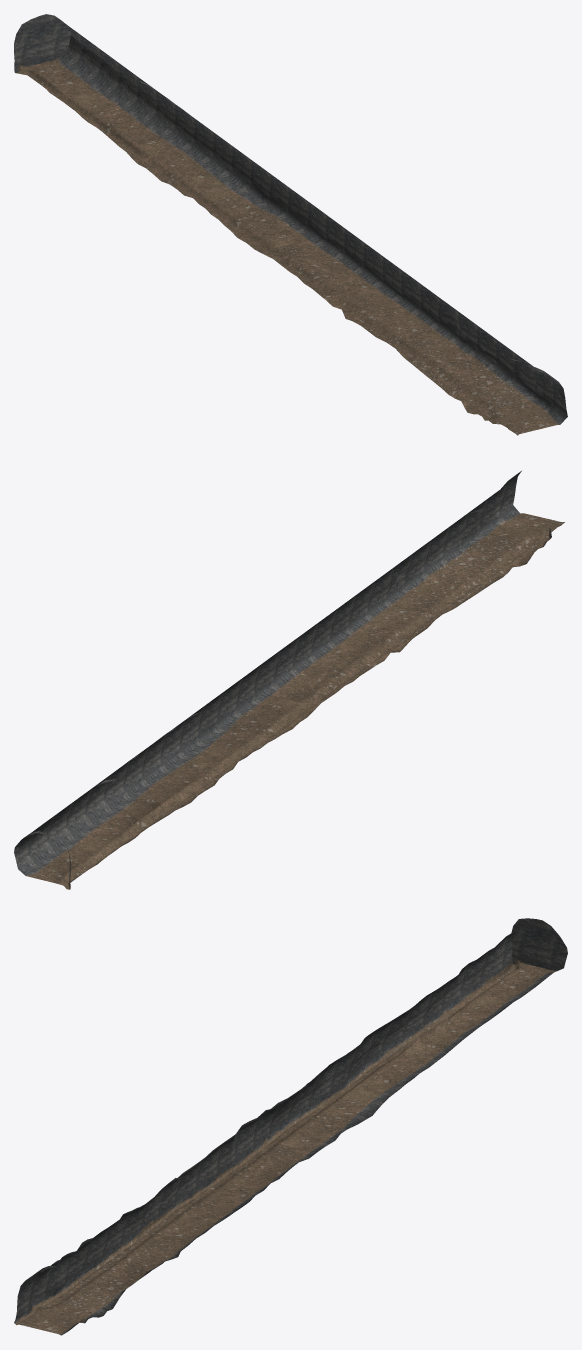
File: TunnelC.glb
3 views of the same model, one above another, from view 1: azimuth 30°, elevation 25°; view 2: azimuth 150°, elevation 25°; view 3: azimuth 330°, elevation 25° (orthographic).
Visible parts, largest first — view 1: TunnelC; view 2: TunnelC; view 3: TunnelC.
Boxes of the visible parts, left/top/right/bottom form: TunnelC: left=14, top=14, right=567, bottom=435; TunnelC: left=14, top=471, right=564, bottom=889; TunnelC: left=14, top=918, right=567, bottom=1335.
Size of the model in its own units: 3.46 by 3.32 by 49.27.
Materials: 1 (1 with a texture image).
